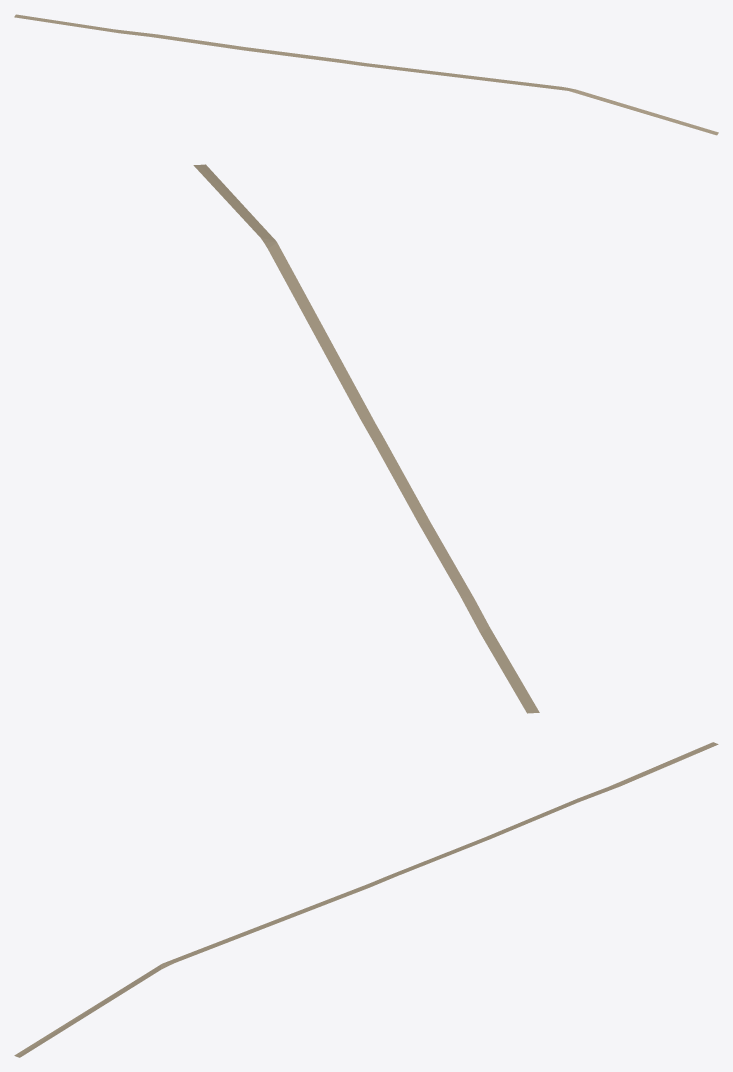
File: farm_-36_-28_track.glb
3 renders of one model, top to bottom at view 1: azimuth 30°, elevation 25°; view 2: azimuth 150°, elevation 25°; view 3: azimuth 270°, elevation 25°, orthographic. The views are drawn at different scales.
Visible parts, largest first — view 1: geometry_0; view 2: geometry_0; view 3: geometry_0.
Part boxes in pixels (box(x1,y1,x2,y2)): geometry_0: box(14, 14, 718, 135); geometry_0: box(193, 164, 539, 713); geometry_0: box(14, 742, 718, 1057).
Bounding box in the file's own units: 254 × 15.72 × 271.
